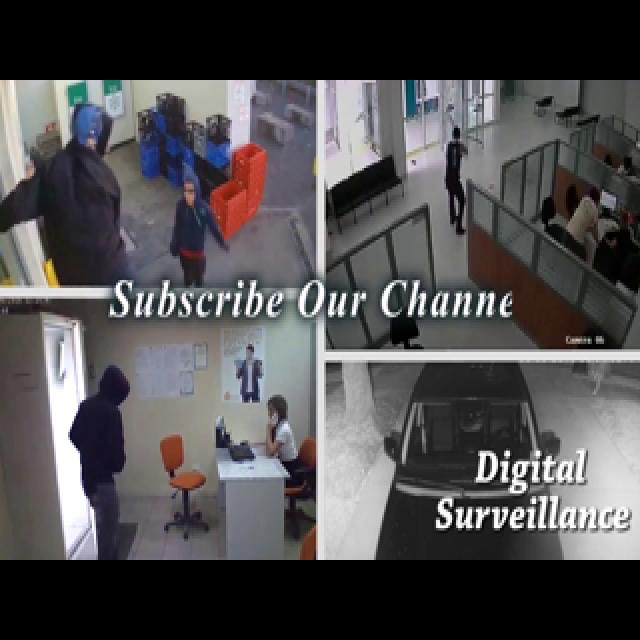burglary: (28, 94, 375, 479)
